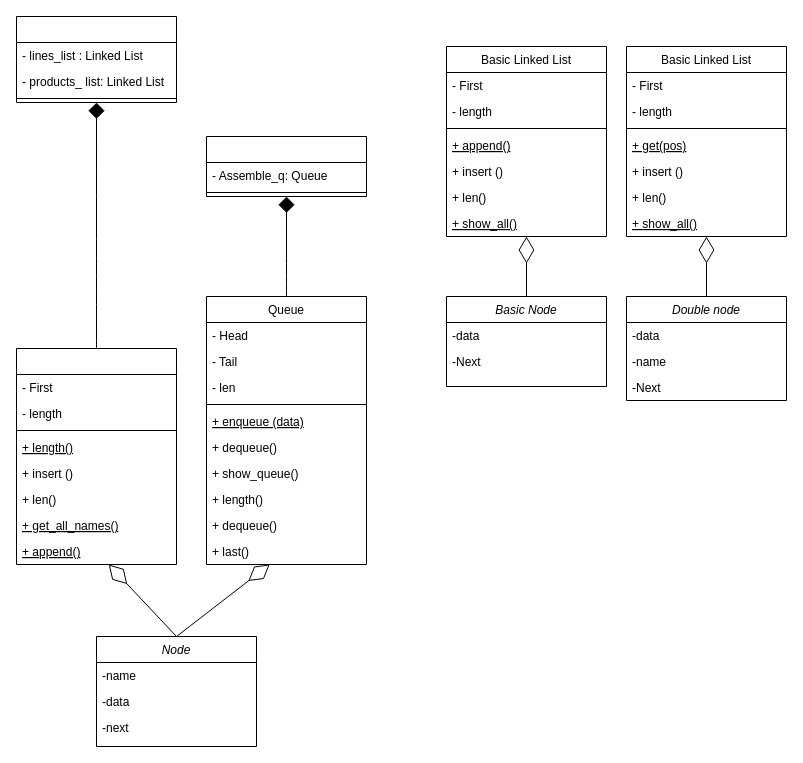
The diagram is 803 pixels wide and 763 high, and some of its shapes have lost their labels. Here are the shapes that lost their labels. From the top down, the box of each, then its label:
(16, 16, 176, 102): Machine
(206, 136, 366, 196): Prduct
(16, 348, 176, 564): Linked list
